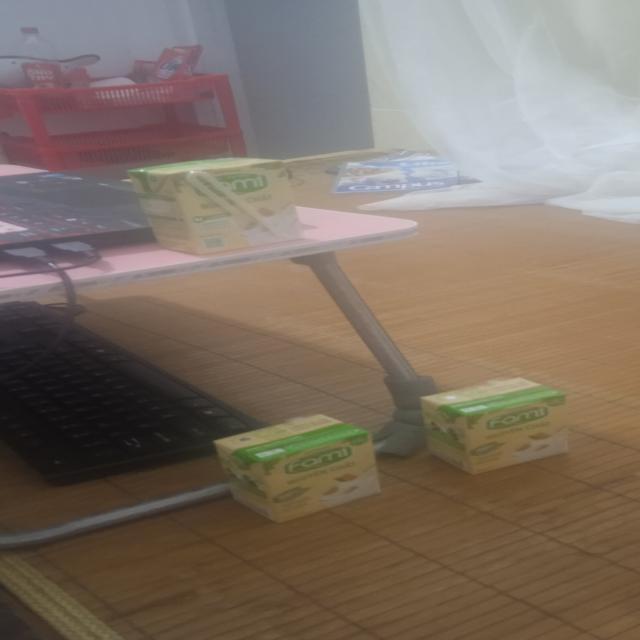Fami: (219, 417, 381, 524), (129, 157, 296, 256), (421, 379, 573, 475)
